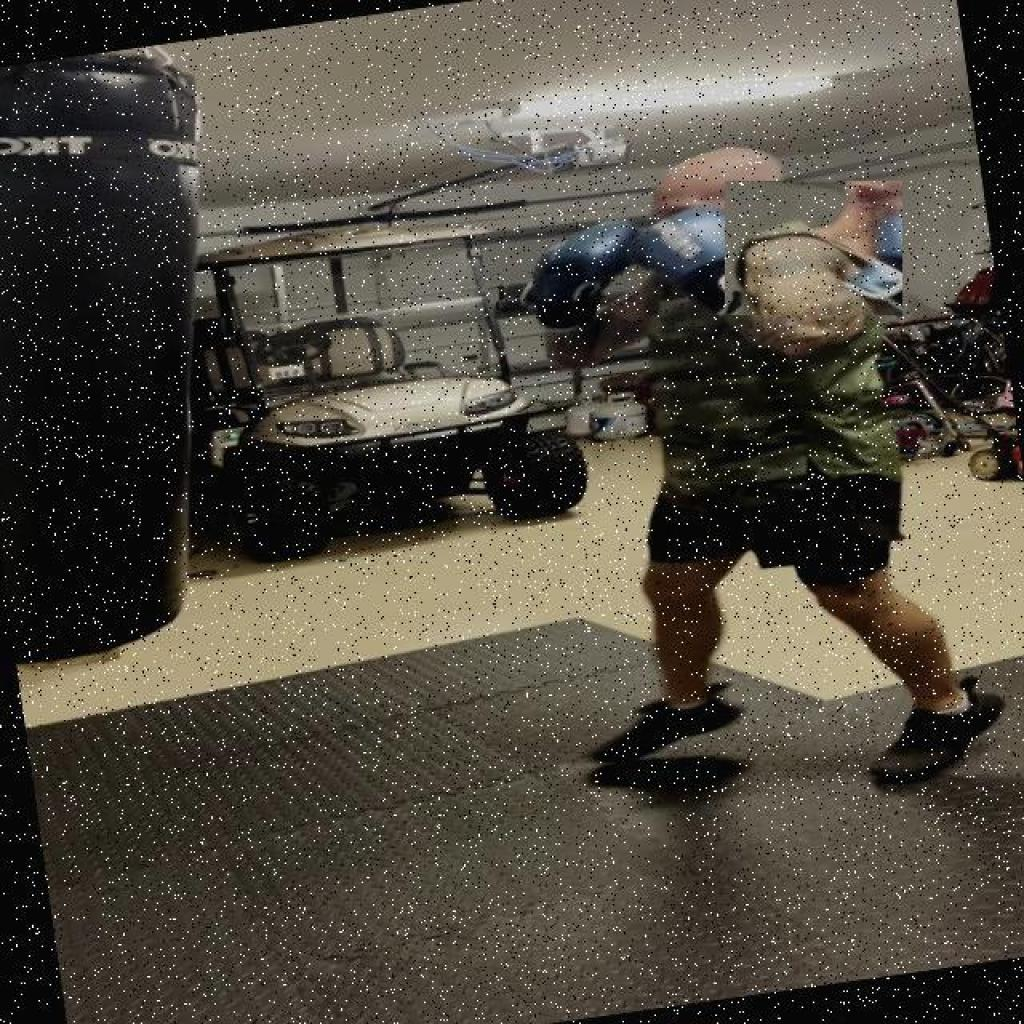bag: (439, 75, 969, 182), (725, 182, 902, 315)
